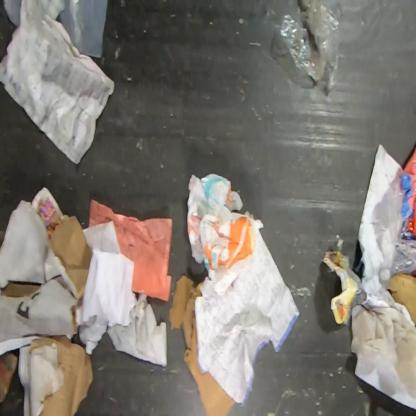cardboard: (0, 216, 92, 344), (166, 274, 236, 415), (29, 336, 94, 415), (386, 270, 415, 330), (0, 348, 21, 408)
soft_plastic: (3, 0, 109, 59), (278, 0, 343, 92), (393, 145, 415, 281)
